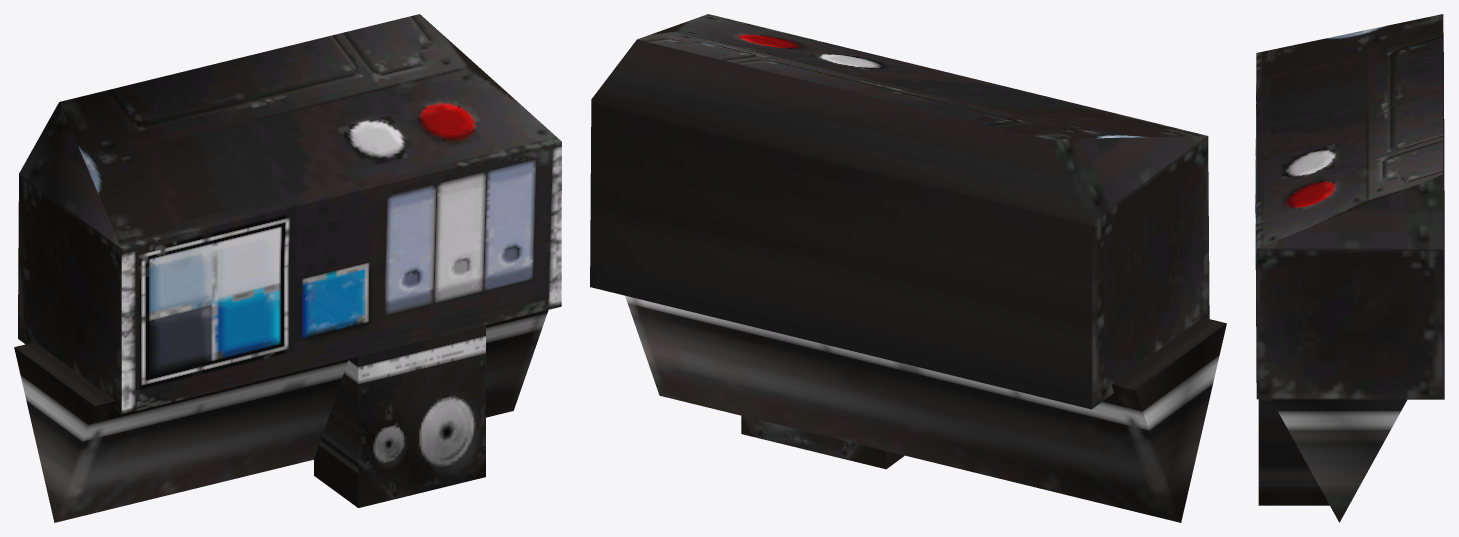
The model's file is eqp_acc_imp_life_support_pack_l3.fbx.
The picture shows the model from 3 angles, left to right: view 1: azimuth 30°, elevation 25°; view 2: azimuth 150°, elevation 25°; view 3: azimuth 270°, elevation 25°; orthographic projection. The views are drawn at different scales.
Visible parts, largest first — view 1: mesh_node; view 2: mesh_node; view 3: mesh_node.
Part boxes in pixels (x1,y1,x2,y2): mesh_node: [14, 14, 561, 522]; mesh_node: [590, 14, 1226, 522]; mesh_node: [1255, 14, 1444, 522].
Bounding box in the file's own units: 0.2319 × 0.1821 × 0.09.
1 material, 1 textured.
